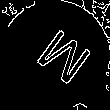M_SW: (21, 21, 89, 89)
